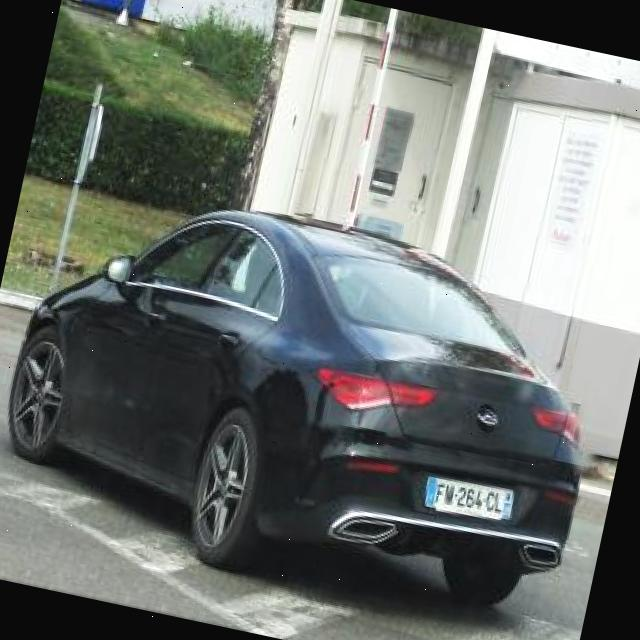Autre: (415, 474, 517, 524)
